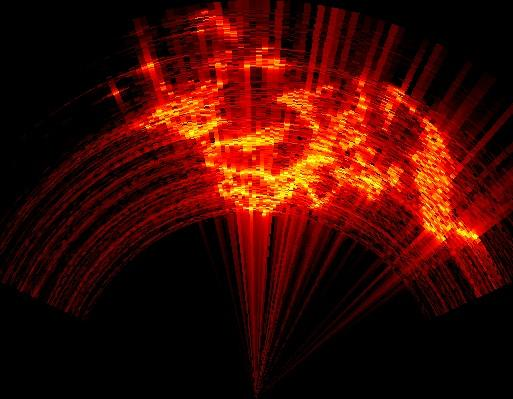shipwreck: (219, 92, 403, 212), (411, 118, 478, 240), (205, 120, 287, 152), (155, 101, 208, 122), (182, 122, 222, 135)
